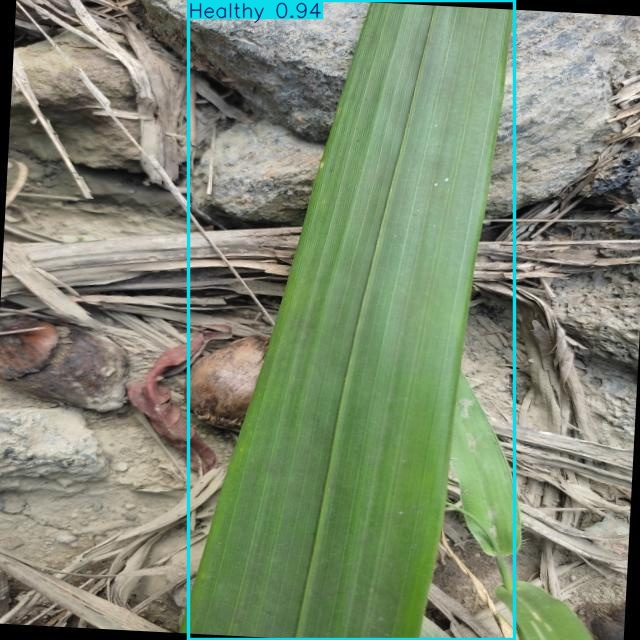Healthy: (188, 0, 515, 639)
